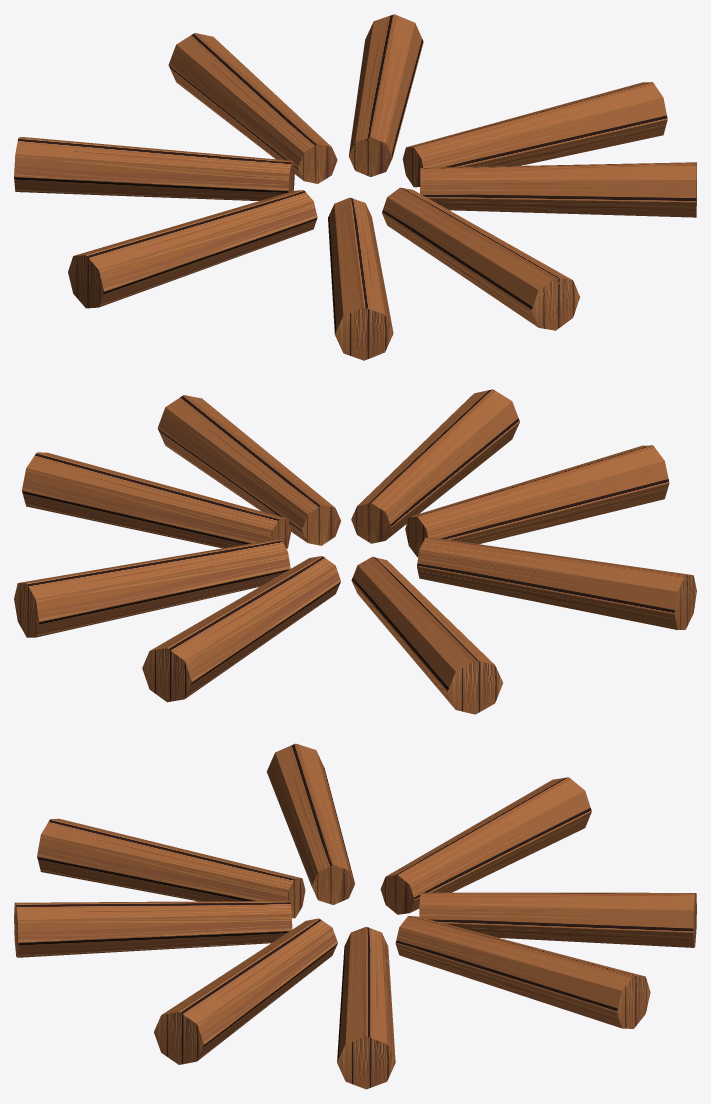
The model's file is Fire.fbx.
3 renders of one model, top to bottom at view 1: azimuth 30°, elevation 25°; view 2: azimuth 150°, elevation 25°; view 3: azimuth 270°, elevation 25°, orthographic. The views are drawn at different scales.
Parts seen in each view (by area): view 1: 2; view 2: 2; view 3: 2.
Boxes of the visible parts, x1=… form: 2: x1=14, y1=14, x2=696, y2=360; 2: x1=14, y1=389, x2=696, y2=714; 2: x1=14, y1=743, x2=696, y2=1089.
Bounding box in the file's own units: 96.97 × 8.16 × 95.01.
